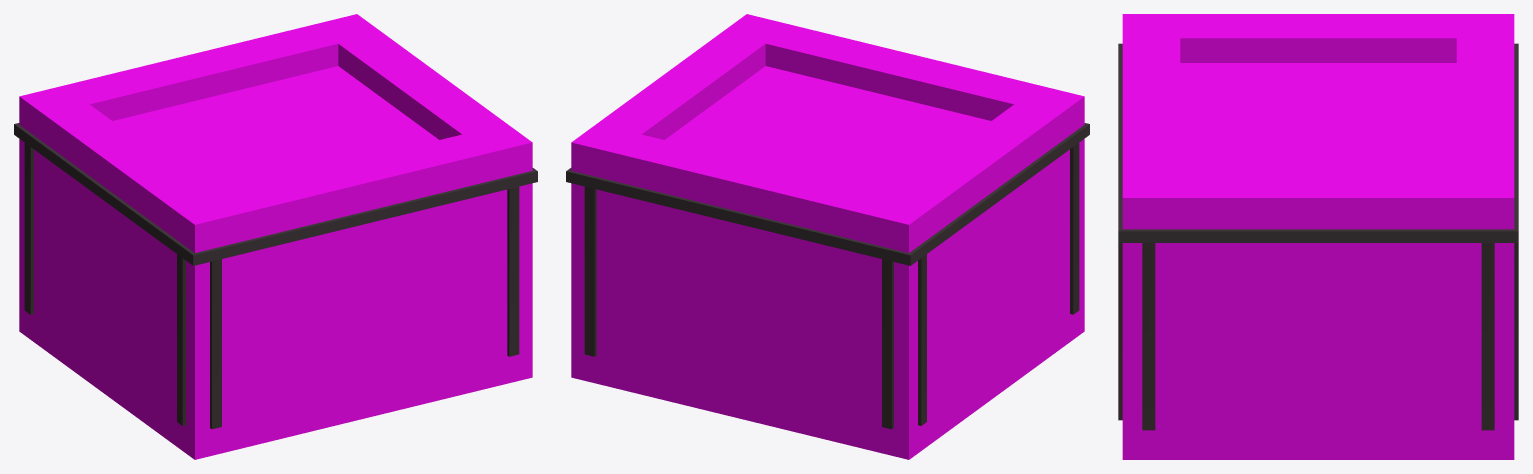
File: interior-bakery.glb
3 views of the same model, side by side, from view 1: azimuth 30°, elevation 25°; view 2: azimuth 150°, elevation 25°; view 3: azimuth 270°, elevation 25° (orthographic). The views are drawn at different scales.
Visible parts, largest first — view 1: Col_wall_front, Col_wall_left, Col_ceiling, Interior bakery Plaster, Col_wall_back, Col_wall_right; view 2: Col_wall_back, Col_wall_left, Col_ceiling, Col_wall_front, Interior bakery Plaster, Col_wall_right; view 3: Col_wall_right, Col_ceiling, Col_wall_back, Col_wall_front, Col_wall_left, Interior bakery Plaster.
Boxes of the visible parts, box(x1,y1,x2,y2) form: Col_wall_front: box(169, 123, 532, 459); Col_wall_left: box(19, 85, 238, 459); Col_ceiling: box(109, 66, 532, 302); Interior bakery Plaster: box(14, 123, 537, 429); Col_wall_back: box(19, 14, 382, 344); Col_wall_right: box(317, 14, 518, 238); Col_wall_back: box(571, 123, 934, 459); Col_wall_left: box(864, 85, 1084, 459); Col_ceiling: box(571, 66, 1084, 303); Col_wall_front: box(721, 14, 1084, 349); Interior bakery Plaster: box(566, 123, 1089, 429); Col_wall_right: box(572, 14, 785, 309); Col_wall_right: box(1122, 173, 1514, 459); Col_ceiling: box(1122, 63, 1514, 285); Col_wall_back: box(1456, 14, 1514, 459); Col_wall_front: box(1122, 14, 1180, 459); Col_wall_left: box(1122, 14, 1514, 62); Interior bakery Plaster: box(1118, 43, 1518, 430).
Bounding box in the file's own units: 10.2 × 6.65 × 9.2.
